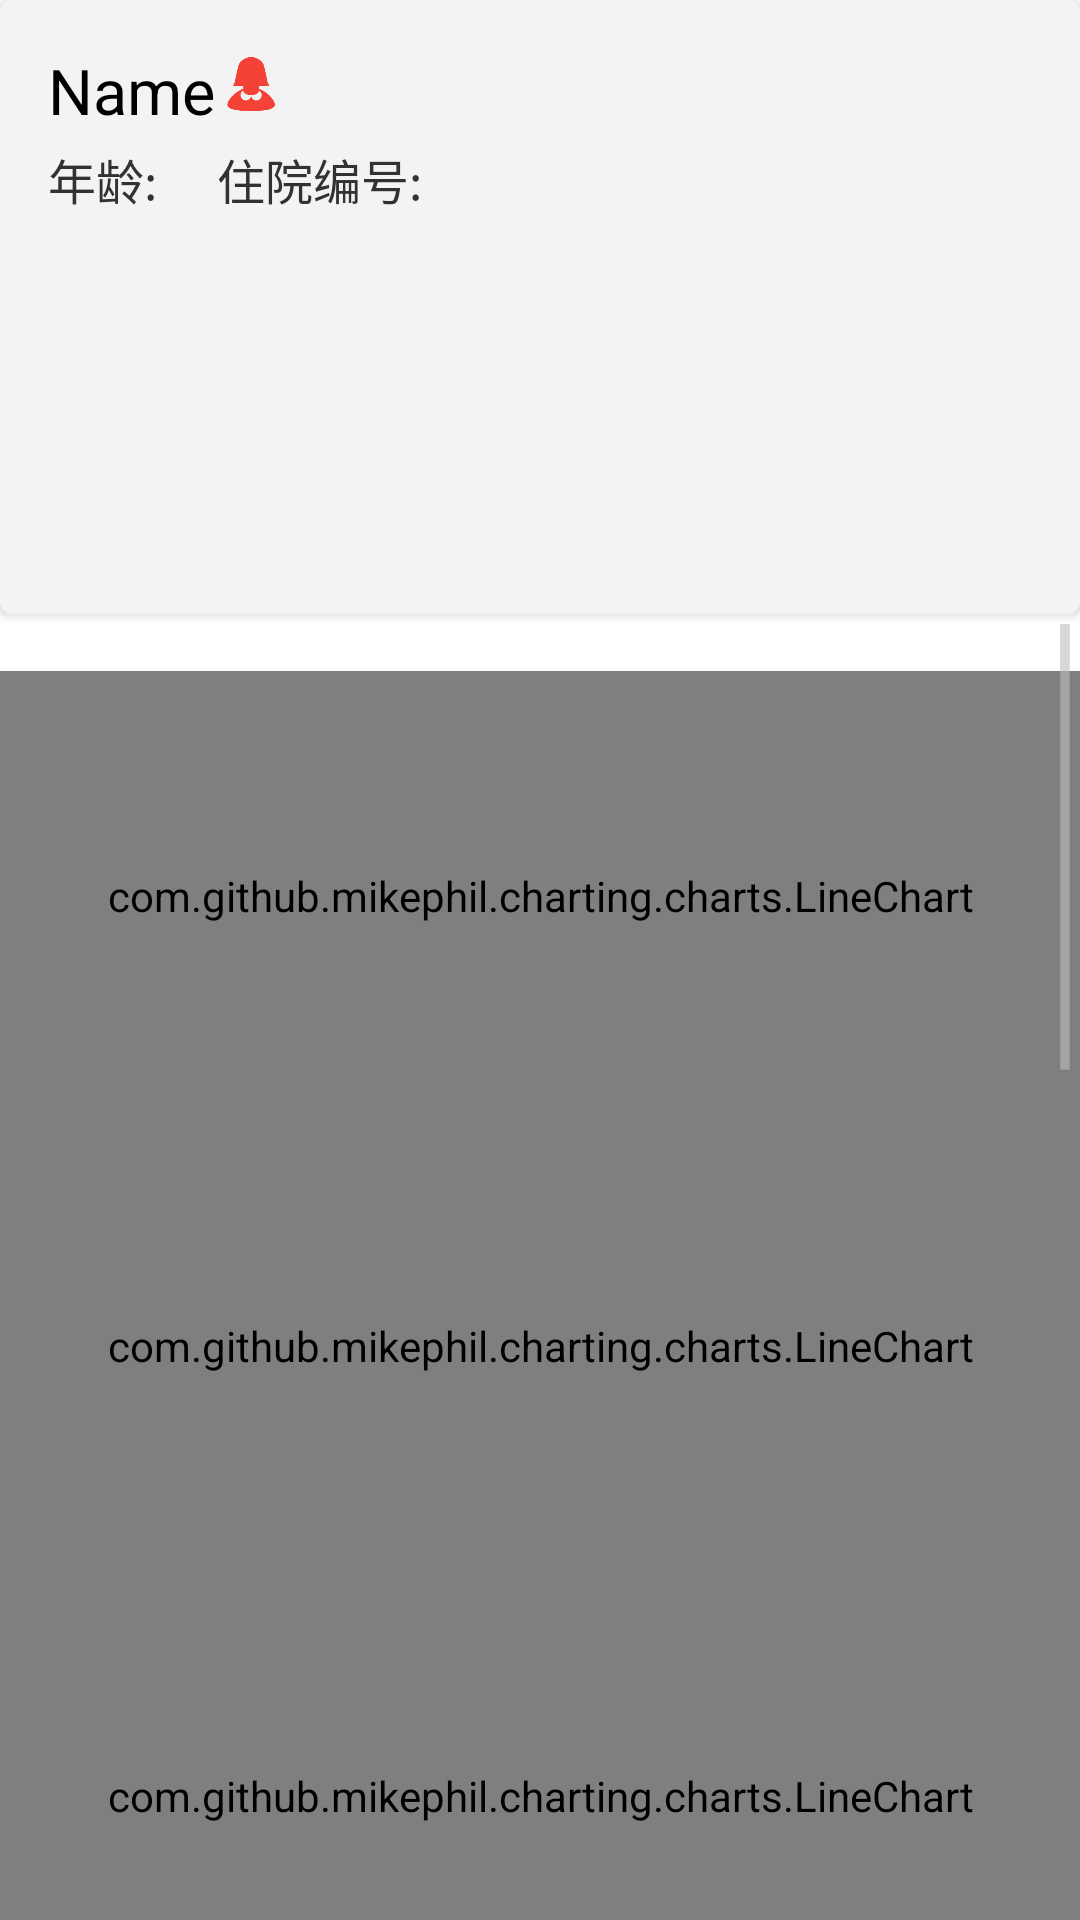

Point at icon controls on the screen. Image size 1080 x 1920, points as point (x, y).
头像: point (251, 84)
